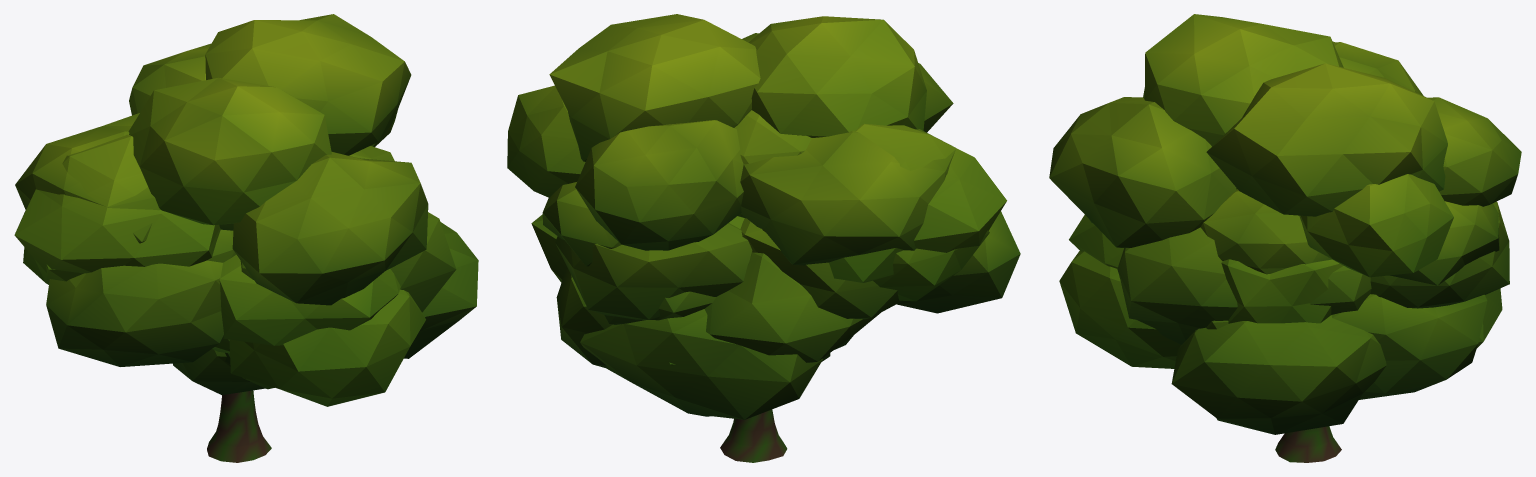
The model's file is bigleaf-maple.glb.
The picture shows the model from 3 angles, left to right: view 1: azimuth 30°, elevation 25°; view 2: azimuth 150°, elevation 25°; view 3: azimuth 270°, elevation 25°; orthographic projection. The views are drawn at different scales.
Parts seen in each view (by area): view 1: bigleaf-maple.Leaves, bigleaf-maple.Bark; view 2: bigleaf-maple.Leaves, bigleaf-maple.Bark; view 3: bigleaf-maple.Leaves, bigleaf-maple.Bark.
Boxes of the visible parts, box(x1,y1,x2,y2) form: bigleaf-maple.Leaves: box(14, 14, 478, 406); bigleaf-maple.Bark: box(207, 390, 271, 462); bigleaf-maple.Leaves: box(507, 14, 1020, 419); bigleaf-maple.Bark: box(720, 409, 787, 462); bigleaf-maple.Leaves: box(1049, 14, 1521, 434); bigleaf-maple.Bark: box(1275, 426, 1341, 462).
Size of the model in its own units: 13.65 by 12.02 by 12.71.
